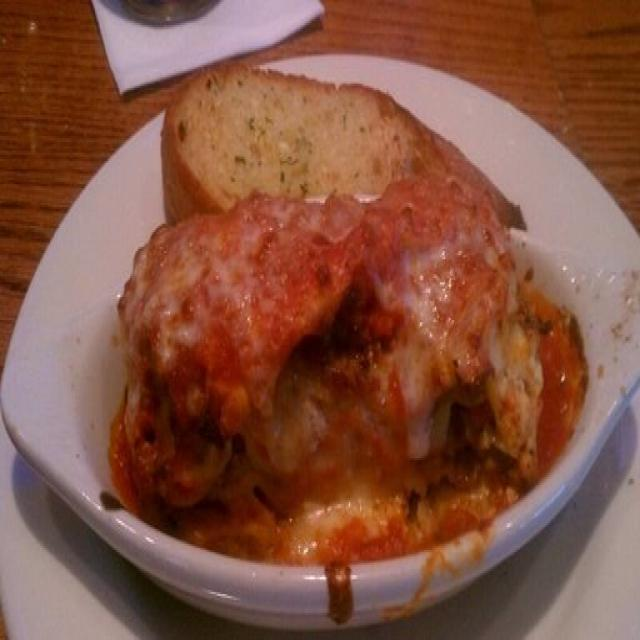Lasagna: (112, 186, 577, 564)
